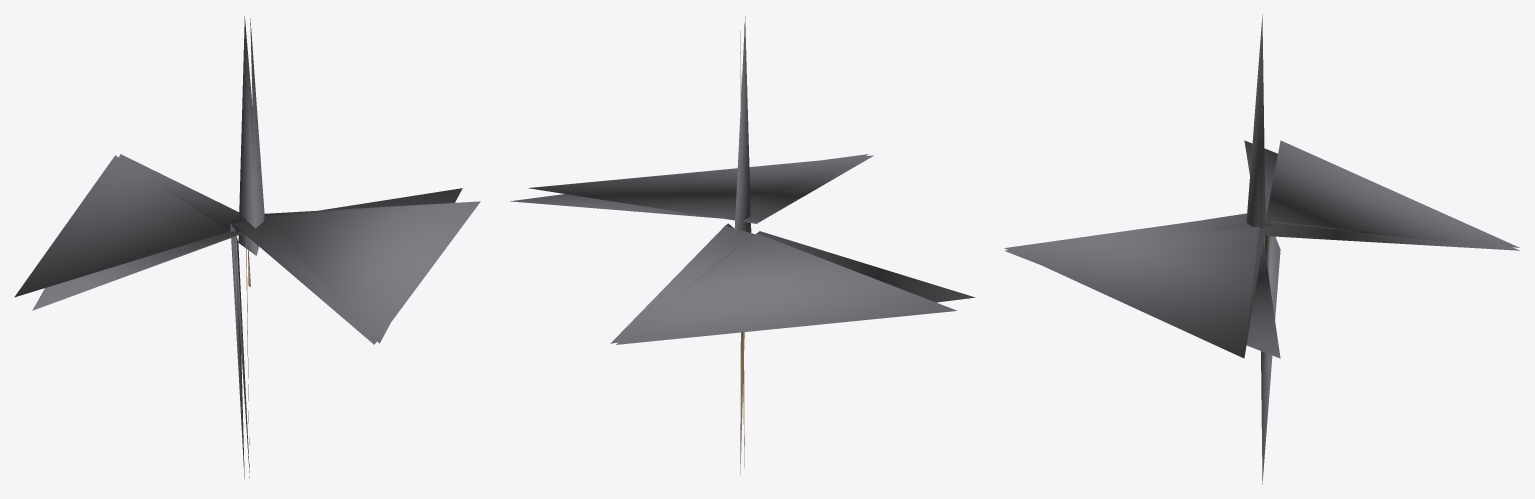
Rendered from equip_weapon_black_pickaxe.glb.
The picture shows the model from 3 angles, left to right: view 1: azimuth 30°, elevation 25°; view 2: azimuth 150°, elevation 25°; view 3: azimuth 270°, elevation 25°; orthographic projection.
Parts seen in each view (by area): view 1: equip_weapon_black_pickaxe; view 2: equip_weapon_black_pickaxe; view 3: equip_weapon_black_pickaxe.
Boxes of the visible parts, x1=… form: equip_weapon_black_pickaxe: x1=14, y1=16, x2=480, y2=478; equip_weapon_black_pickaxe: x1=510, y1=16, x2=975, y2=474; equip_weapon_black_pickaxe: x1=1004, y1=14, x2=1519, y2=484.
Bounding box in the file's own units: 2 × 2 × 2.
